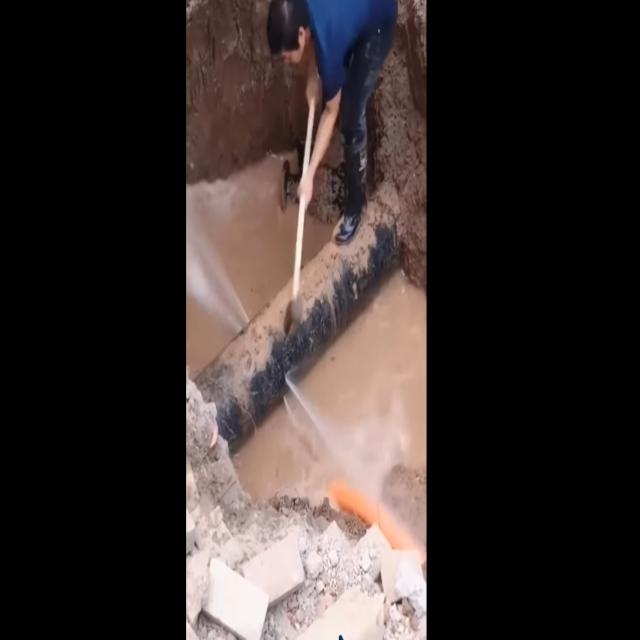leak: (186, 204, 249, 333), (284, 378, 350, 466)
